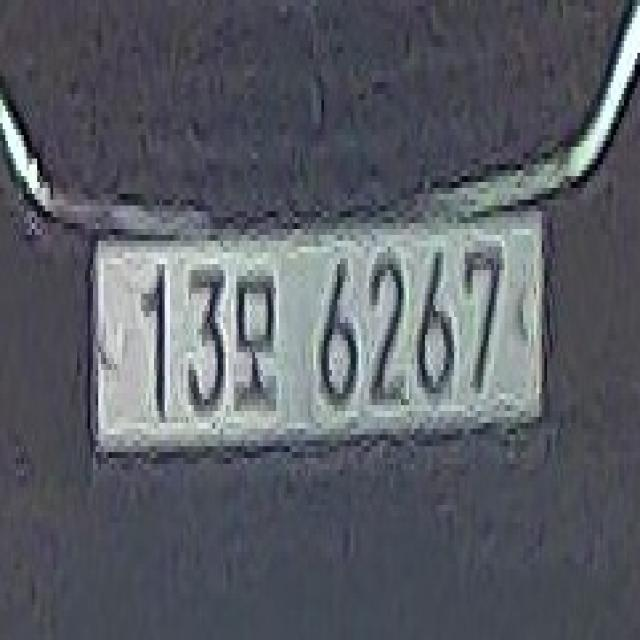1: (136, 252, 180, 434)
2: (366, 241, 414, 428)
3: (181, 246, 231, 428)
6: (412, 241, 459, 428), (316, 252, 364, 428)
7: (460, 235, 504, 423)
license_plate: (80, 194, 552, 487)
mo: (228, 264, 287, 452)
